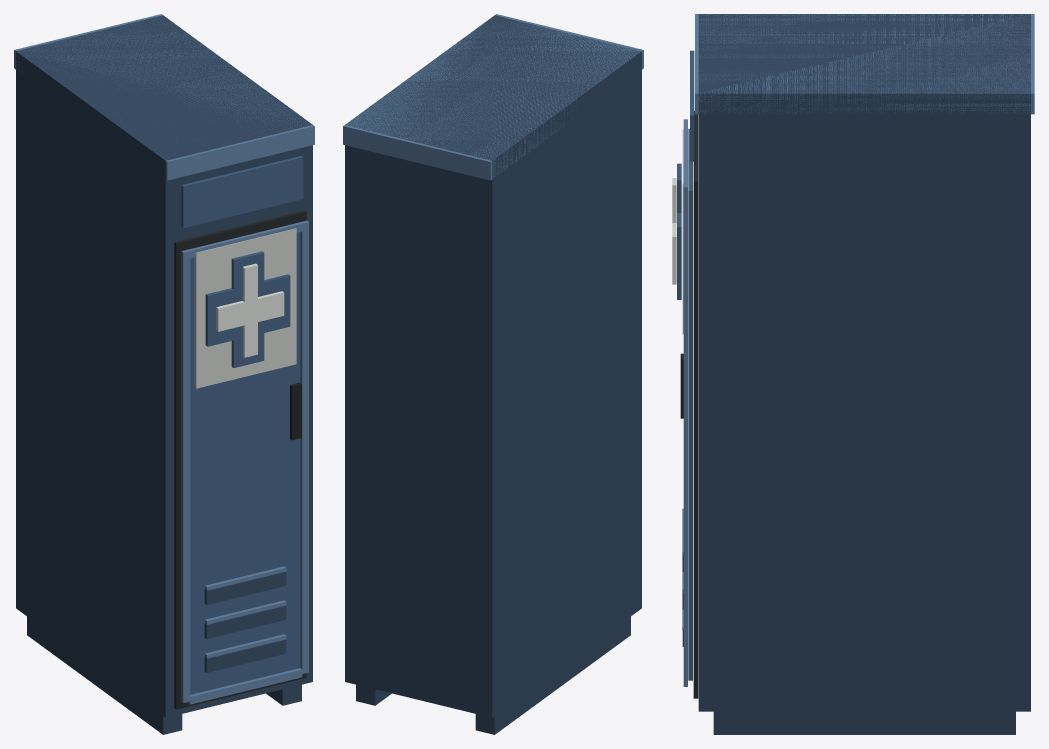
The model's file is CMU3DEmergencyCloset.glb.
3 renders of one model, left to right at view 1: azimuth 30°, elevation 25°; view 2: azimuth 150°, elevation 25°; view 3: azimuth 270°, elevation 25°, orthographic. The views are drawn at different scales.
Visible parts, largest first — view 1: closet shell, door face, door edge molding (×4), white emergency label, top cap, door recess, header inset, blue cross border (×2), lower ventilation recess (×3), closet foot, white cross arms, vent lip (×3) (+2 smaller); view 2: closet shell, top cap, closet foot; view 3: closet shell, top cap, closet foot, door recess, door face, door edge molding.
Boxes of the visible parts, x1,y1,x2,y2 form: closet shell: (16,15,312,717); door face: (190,232,300,694); door edge molding (×4): (181,220,308,704); white emergency label: (194,228,296,388); top cap: (14,14,314,180); door recess: (174,210,306,709); header inset: (181,156,303,228); blue cross border (×2): (205,251,290,367); lower ventilation recess (×3): (204,571,286,672); closet foot: (27,616,182,734); white cross arms: (216,291,284,331); vent lip (×3): (205,566,286,658); closet shell: (345,15,641,717); top cap: (343,14,643,180); closet foot: (475,616,630,734); closet shell: (698,14,1030,711); top cap: (695,14,1034,114); closet foot: (713,711,1015,734); door recess: (693,111,698,698); door face: (688,129,692,680); door edge molding: (683,183,687,686).
Size of the model in its own units: 0.5 by 1.88 by 0.96.
